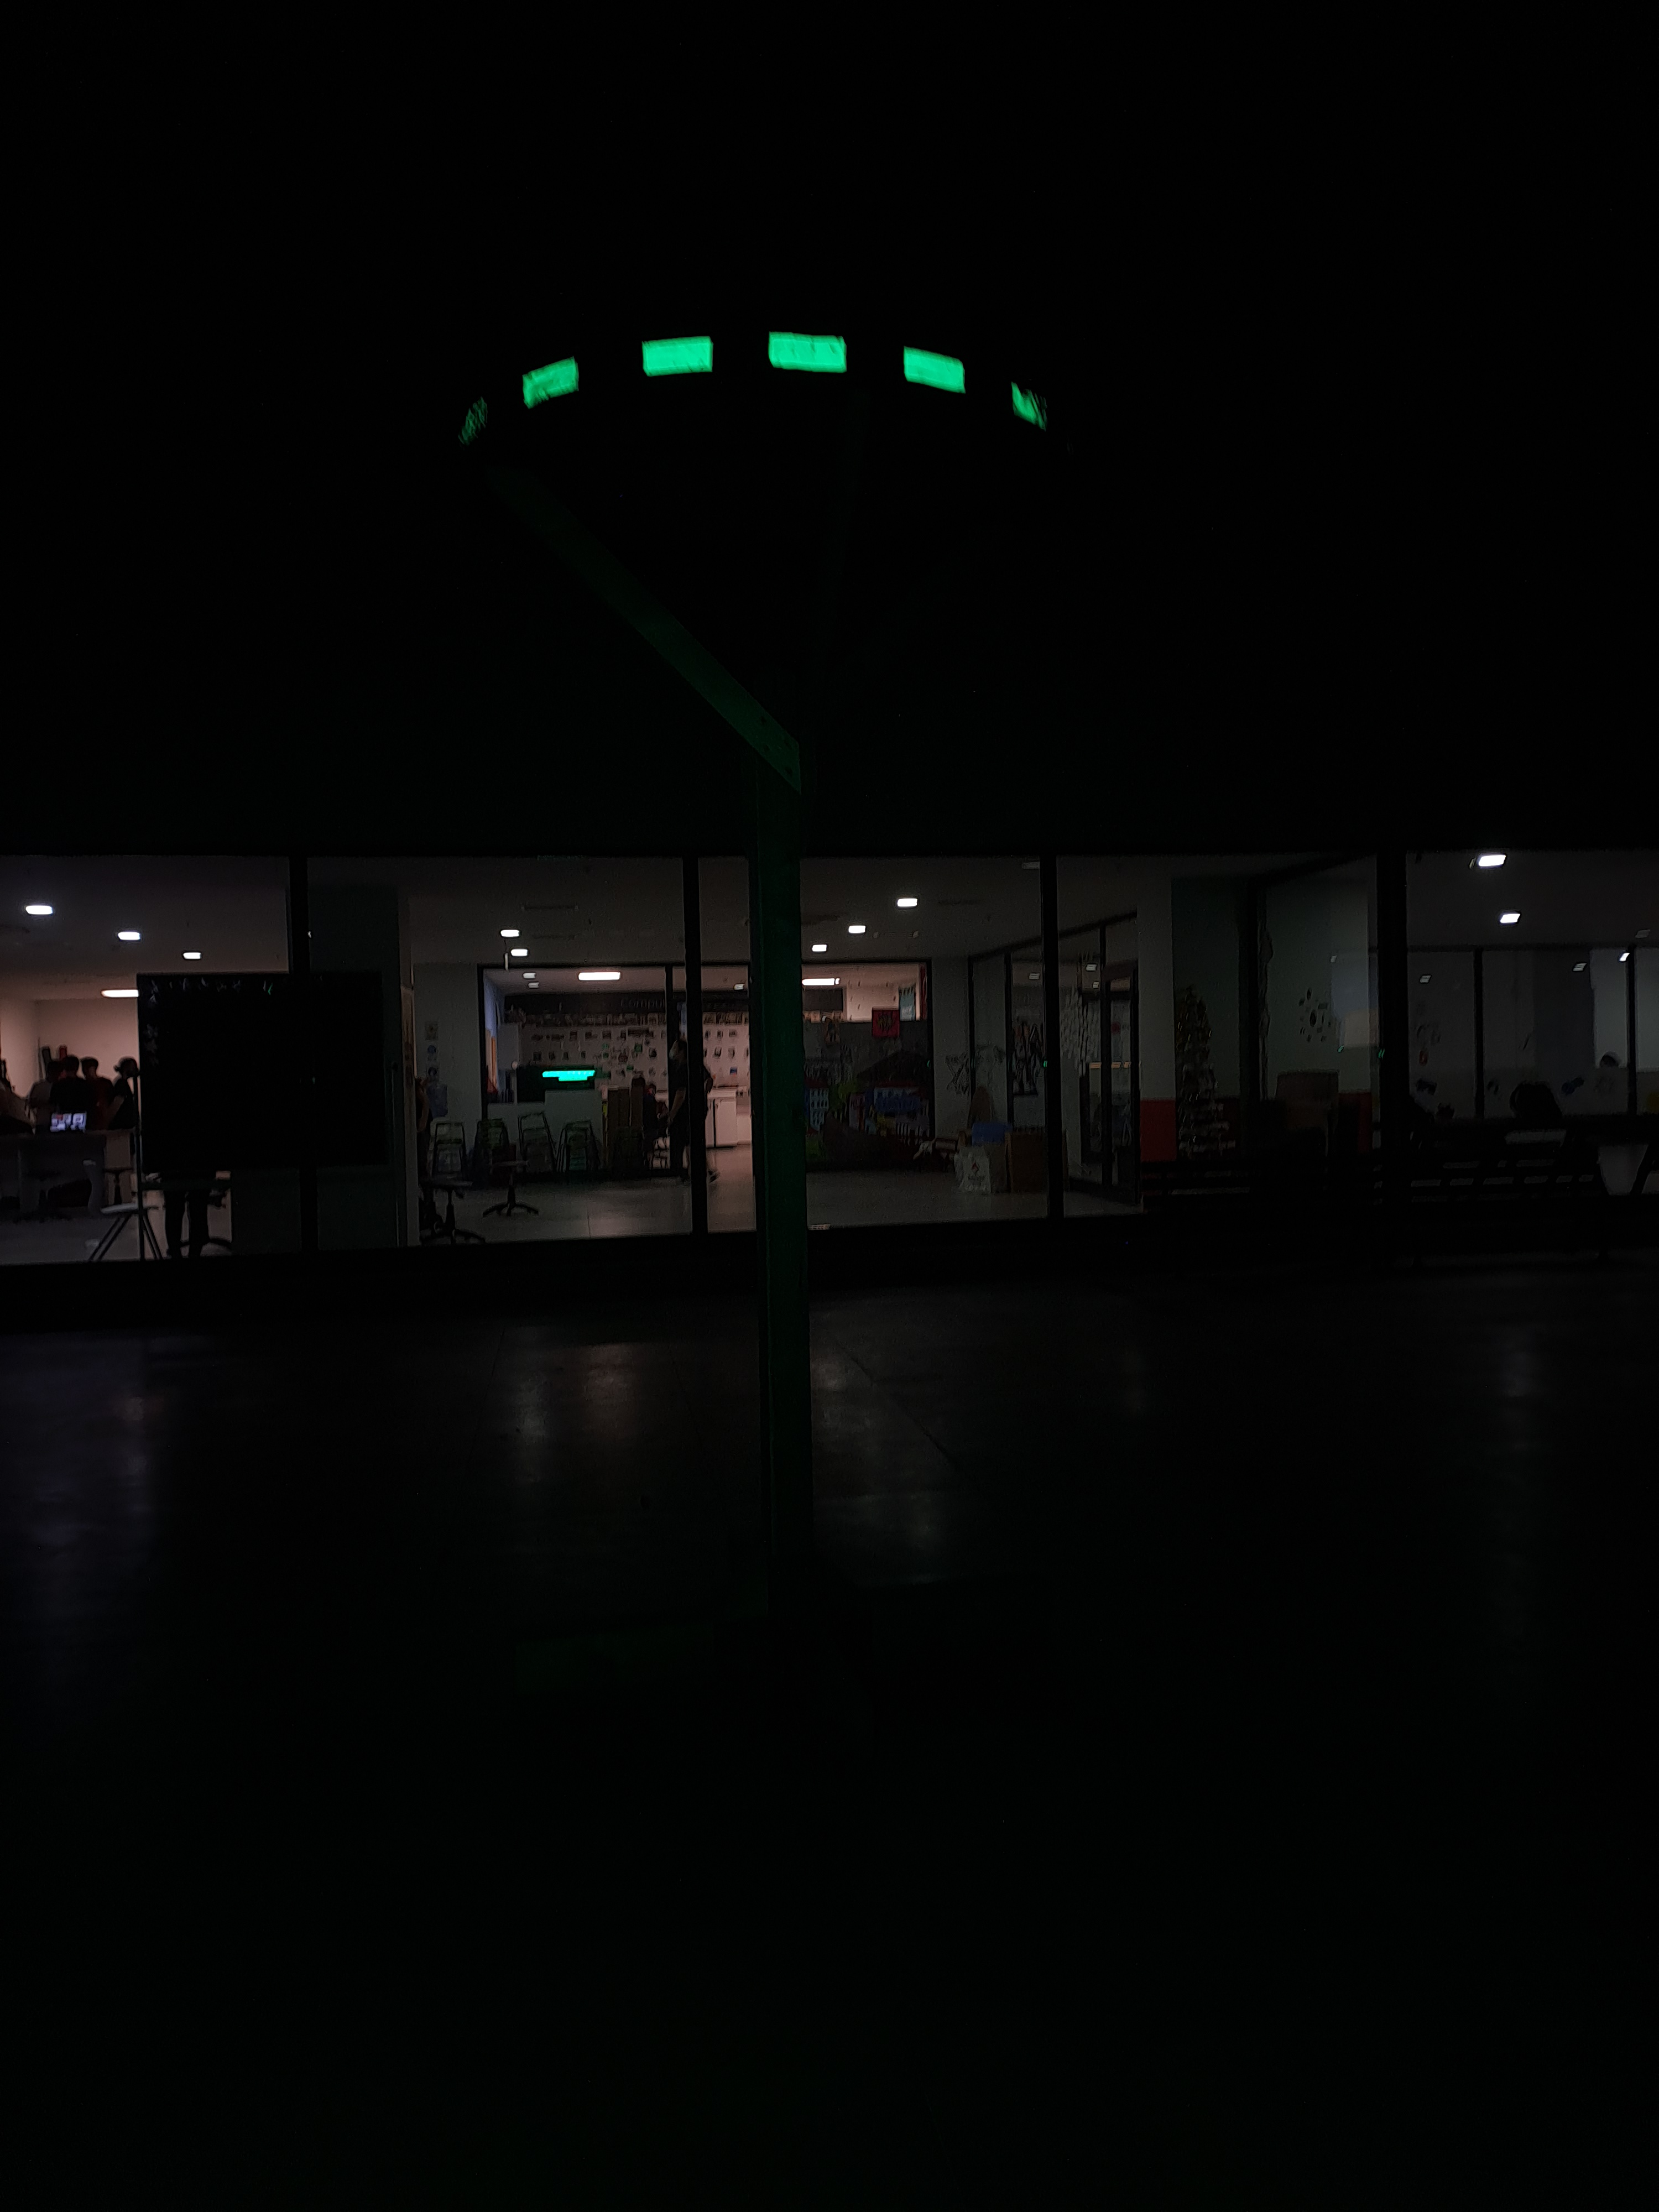hoop: (457, 331, 1047, 439)
